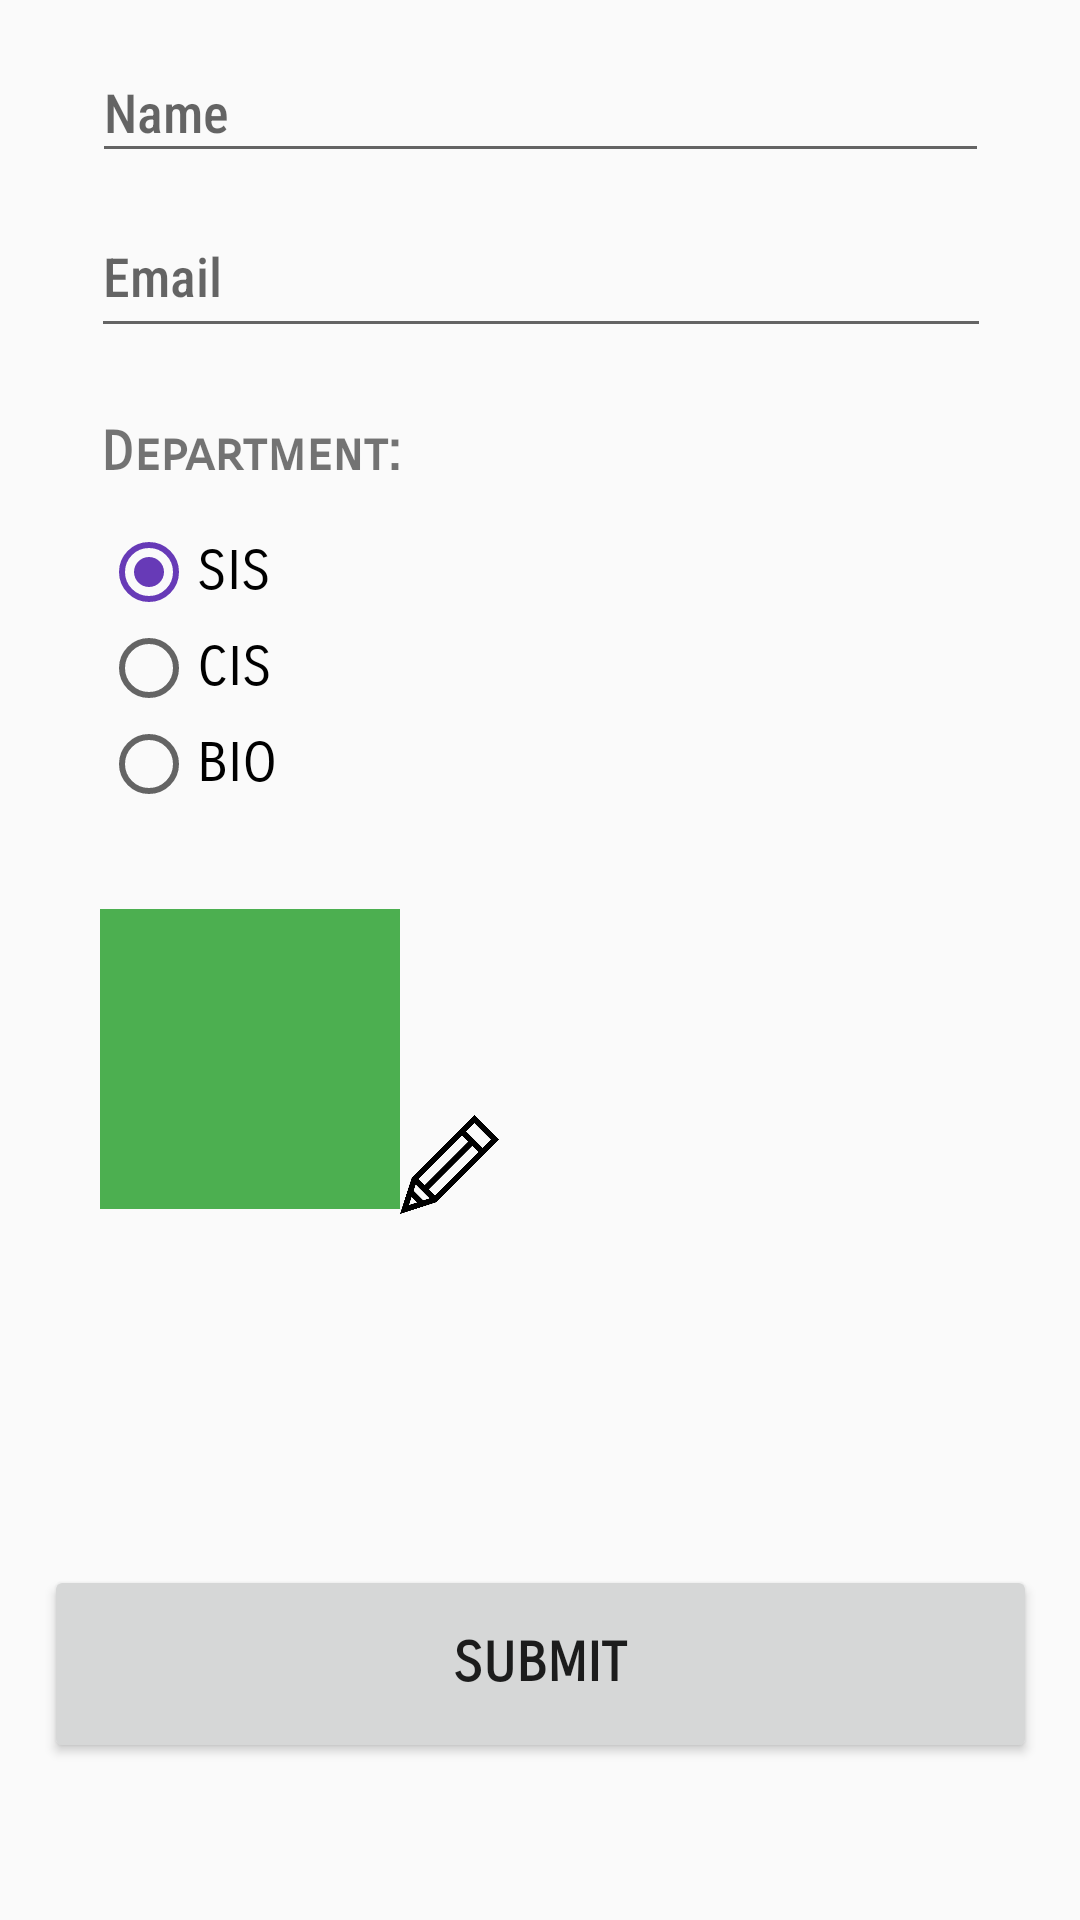

Icons on this 1080x1920 Android screen, each with the point to tap as (x,y):
Edit: (449,1164)
